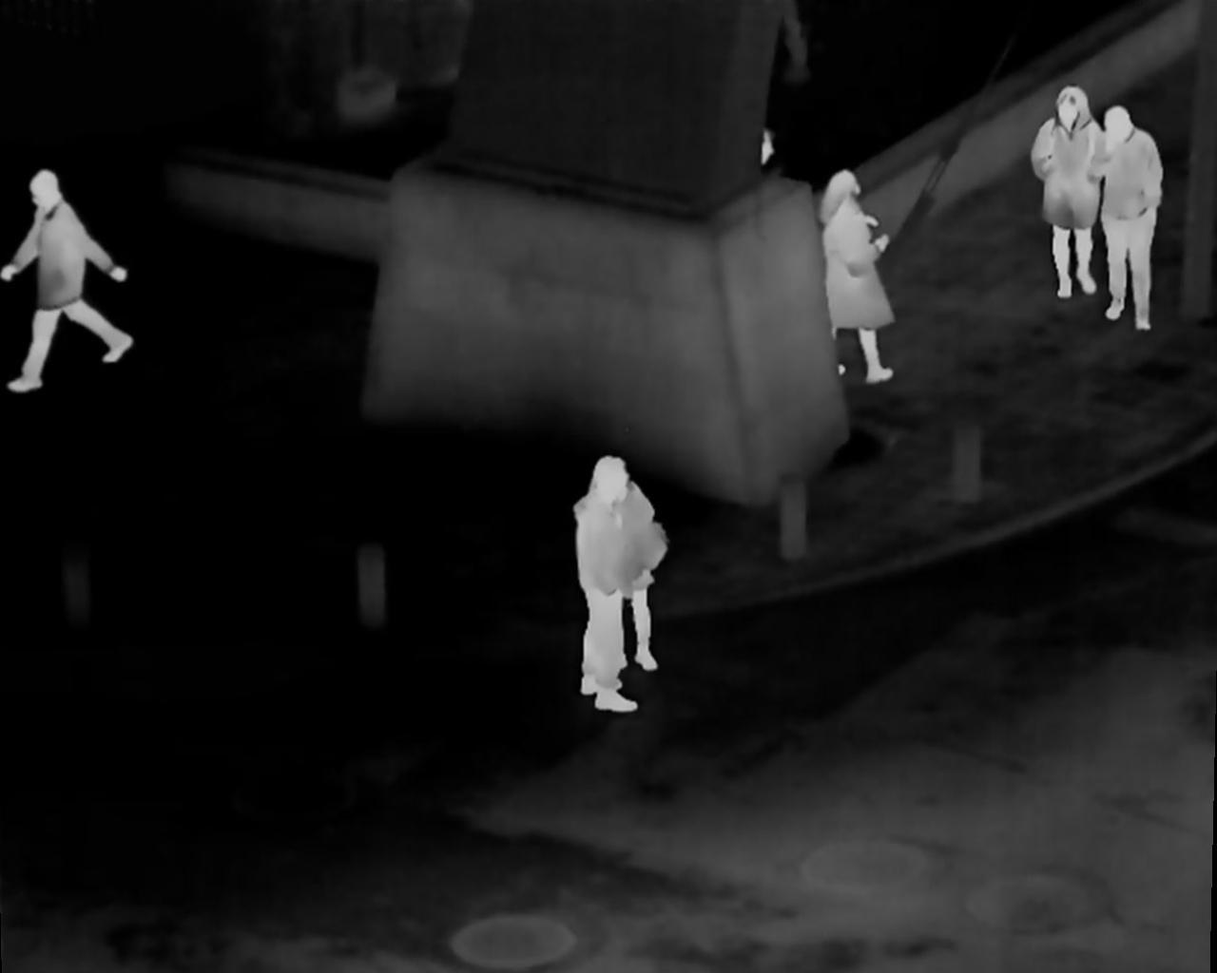person: (16, 172, 140, 388), (572, 467, 671, 709), (813, 168, 897, 396), (1098, 111, 1169, 351), (1046, 84, 1091, 296)
